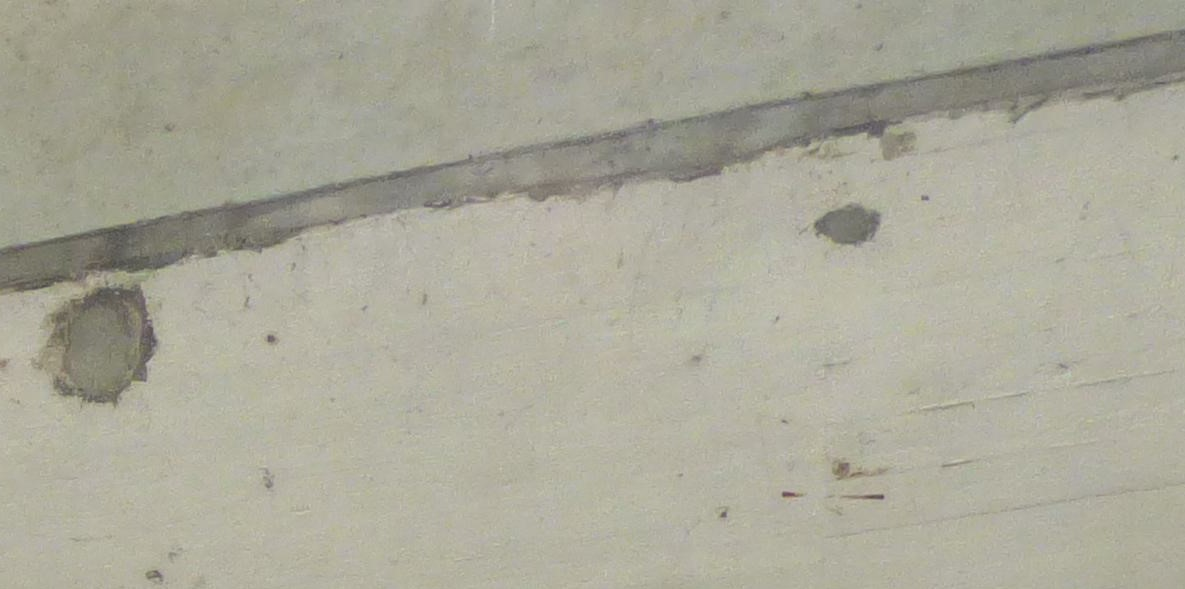Spalling: (47, 282, 153, 403), (812, 200, 882, 247)
